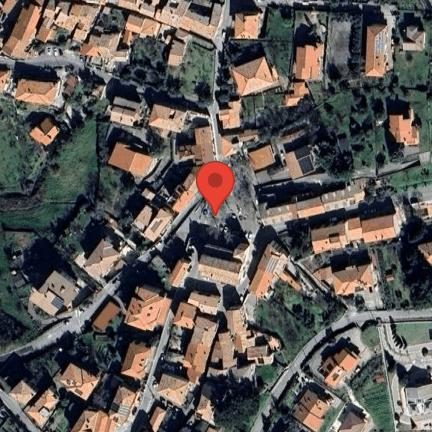area_open: (147, 155, 343, 277), (304, 289, 393, 373), (109, 125, 174, 181), (187, 277, 259, 326), (12, 30, 79, 78), (367, 0, 400, 71), (273, 123, 326, 155), (325, 19, 350, 79), (162, 326, 190, 375), (399, 344, 432, 385), (406, 145, 422, 160)
built: (2, 0, 102, 61), (259, 182, 362, 227), (110, 0, 224, 40), (311, 208, 403, 254), (212, 307, 274, 368), (122, 14, 191, 68), (182, 316, 219, 384), (30, 269, 80, 316), (248, 244, 289, 300), (199, 243, 250, 287), (314, 263, 379, 296), (123, 287, 169, 333), (290, 386, 335, 432), (178, 110, 215, 165), (82, 34, 132, 73), (317, 346, 362, 385), (232, 57, 274, 96), (109, 142, 154, 178), (81, 240, 120, 280), (130, 205, 170, 244), (61, 362, 100, 401), (166, 167, 199, 212), (119, 340, 150, 381), (148, 102, 189, 132), (285, 146, 321, 180), (14, 79, 58, 106), (389, 110, 420, 146), (29, 389, 59, 426), (365, 25, 386, 77), (156, 373, 189, 405), (223, 129, 262, 156), (71, 410, 116, 432), (110, 387, 137, 422), (30, 117, 61, 146), (111, 97, 140, 127), (404, 384, 432, 415), (296, 45, 320, 80), (92, 303, 121, 331), (196, 383, 215, 425), (187, 293, 222, 315), (9, 381, 37, 408), (248, 144, 276, 170), (337, 411, 368, 432), (218, 102, 241, 130), (404, 200, 432, 223), (173, 303, 196, 329), (168, 260, 189, 288), (285, 83, 309, 107), (235, 15, 258, 39), (403, 27, 426, 51), (280, 272, 303, 293), (151, 407, 166, 432)
vegetation_high: (103, 34, 181, 94), (51, 75, 110, 130), (210, 378, 263, 429), (331, 3, 364, 76), (404, 241, 432, 307), (317, 144, 351, 182), (217, 67, 240, 104), (96, 10, 124, 31)
vegetation_low: (0, 99, 146, 354), (307, 0, 432, 170), (258, 280, 344, 386), (227, 2, 329, 91), (19, 334, 123, 389), (353, 328, 395, 432), (163, 37, 216, 101), (243, 86, 313, 132), (376, 241, 415, 307), (269, 377, 310, 432), (375, 164, 432, 191), (392, 322, 432, 344)
